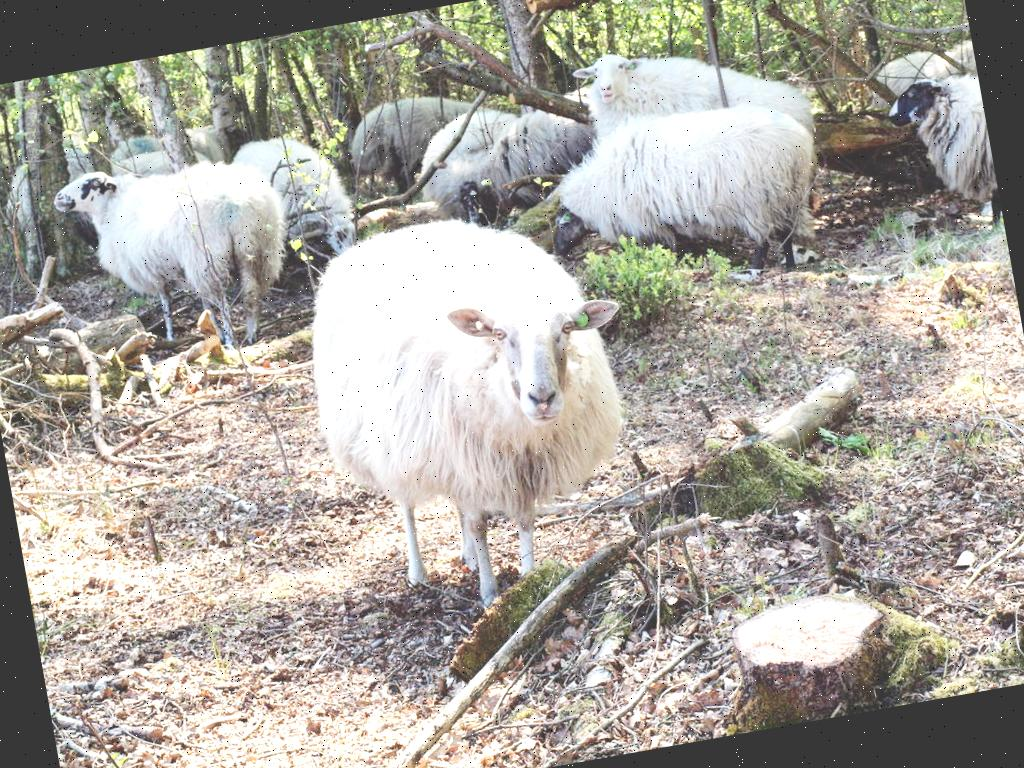Sheep: (277, 179, 659, 646), (536, 92, 830, 305), (44, 134, 286, 372), (566, 17, 818, 183), (214, 114, 368, 276), (884, 60, 1002, 234)
